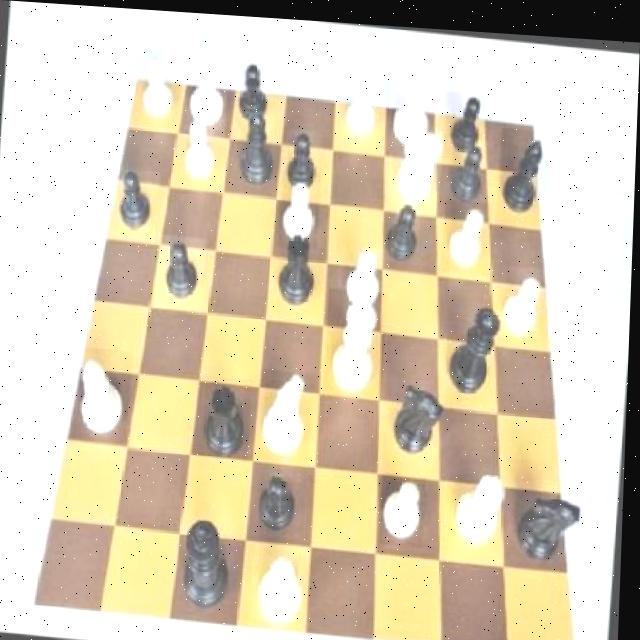bishop: (497, 120, 551, 220), (232, 94, 281, 194)
black-bishop: (176, 507, 243, 619)
black-king: (507, 472, 587, 566), (390, 372, 450, 459)
black-knight: (251, 465, 309, 543), (158, 232, 209, 310), (112, 165, 161, 241), (446, 130, 492, 208), (443, 85, 492, 156), (231, 54, 276, 128), (386, 194, 430, 261), (282, 125, 321, 193)
black-pawn: (447, 289, 509, 396)
black-queen: (272, 219, 328, 312), (196, 371, 256, 457)
black-rook: (73, 343, 136, 441), (251, 539, 311, 628)
white-bishop: (325, 284, 389, 395)
white-king: (259, 365, 318, 460), (387, 119, 445, 210)
white-knight: (131, 46, 183, 127), (443, 193, 495, 269), (338, 240, 391, 312), (279, 165, 323, 245), (384, 467, 430, 543), (341, 63, 387, 138), (501, 258, 546, 330), (176, 116, 221, 181)
white-pawn: (387, 46, 445, 149)
white-queen: (452, 458, 512, 557), (182, 43, 232, 138)
